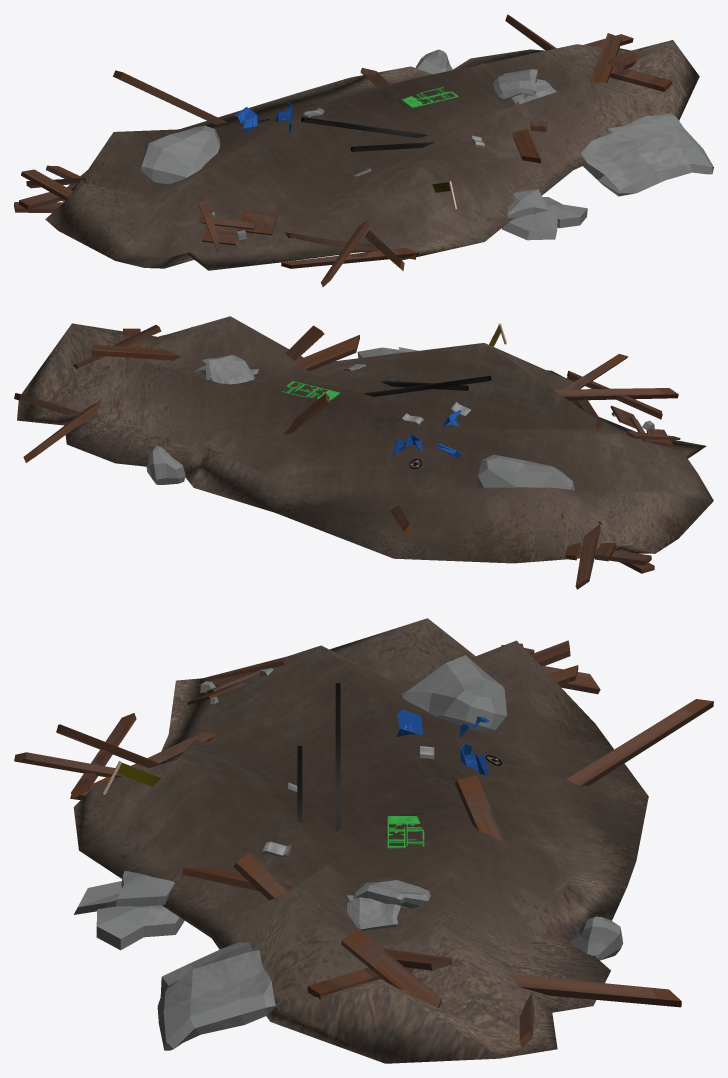
File: DestroçosChão2.fbx
The picture shows the model from 3 angles, top to bottom: view 1: azimuth 30°, elevation 25°; view 2: azimuth 150°, elevation 25°; view 3: azimuth 270°, elevation 25°; orthographic projection. The views are drawn at different scales.
Parts seen in each view (by area): view 1: DestroçoChão6, Concret2.002, Rock3.002, Cubo.006, Cube.005, pCube4.007, pCube10.001, pCube4.008, Concret2.001, Cube.004, pCube4.006, Cabos.001 (+4 smaller); view 2: DestroçoChão6, Cube.005, Rock3.002, pCube4.008, pCube4.007, pCube4.006, Concret2.001, Cube.003, Rock3.001, pCube10.001, Cabos.001, pCube4.005; view 3: DestroçoChão6, Concret2.002, Cubo.006, Rock3.002, pCube4.007, Cube.005, Cube.003, Concret2.001, Cube.004, pCube4.006, Rock3.001, pCube4.008 (+4 smaller).
Part boxes in pixels (<box>): DestroçoChão6: <box>45,40,699,270</box>; Concret2.002: <box>581,113,713,196</box>; Rock3.002: <box>141,125,220,185</box>; Cubo.006: <box>502,189,587,240</box>; Cube.005: <box>281,220,418,286</box>; pCube4.007: <box>590,33,672,91</box>; pCube10.001: <box>198,200,277,251</box>; pCube4.008: <box>14,165,87,212</box>; Concret2.001: <box>493,69,556,105</box>; Cube.004: <box>113,70,226,124</box>; pCube4.006: <box>512,120,547,163</box>; Cabos.001: <box>301,117,427,137</box>; DestroçoChão6: <box>17,316,713,563</box>; Cube.005: <box>553,354,678,428</box>; Rock3.002: <box>476,454,574,489</box>; pCube4.008: <box>565,521,654,589</box>; pCube4.007: <box>73,325,181,368</box>; pCube4.006: <box>286,325,359,370</box>; Concret2.001: <box>195,355,258,384</box>; Cube.003: <box>14,393,101,462</box>; Rock3.001: <box>146,446,185,484</box>; pCube10.001: <box>610,405,680,446</box>; Cabos.001: <box>363,376,491,396</box>; pCube4.005: <box>283,393,329,434</box>; DestroçoChão6: <box>73,618,648,1063</box>; Concret2.002: <box>157,942,276,1050</box>; Cubo.006: <box>74,870,184,950</box>; Rock3.002: <box>401,655,506,732</box>; pCube4.007: <box>307,928,452,1007</box>; Cube.005: <box>14,713,215,799</box>; Cube.003: <box>509,974,681,1048</box>; Concret2.001: <box>346,880,430,930</box>; Cube.004: <box>566,699,713,786</box>; pCube4.006: <box>182,853,295,900</box>; Rock3.001: <box>569,916,623,960</box>; pCube4.008: <box>501,640,600,694</box>.
Bounding box in the file's own units: 2805 × 410 × 1918.
